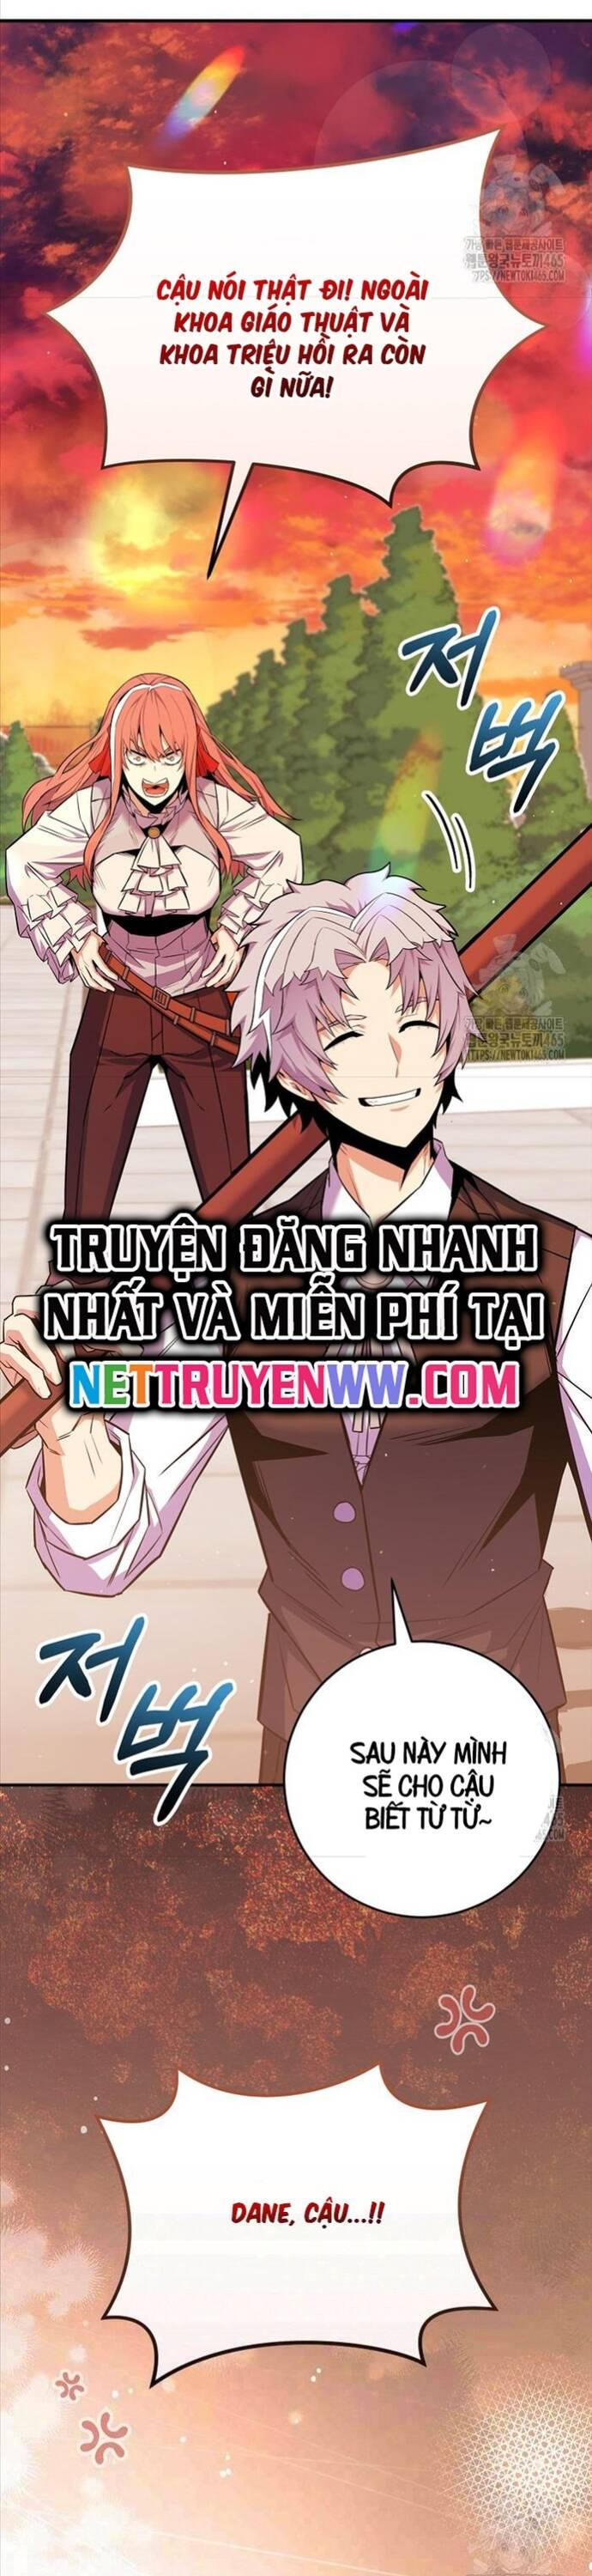quangcao: (30, 1198, 562, 1442)
